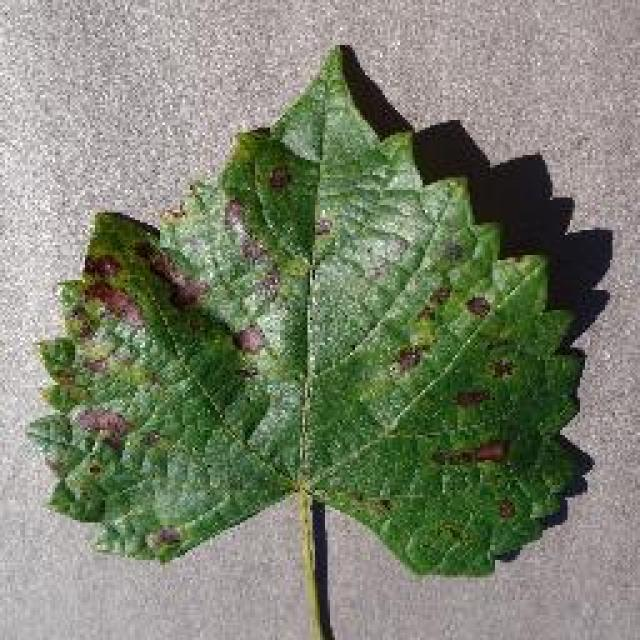Black_Measles: (17, 36, 615, 596)
